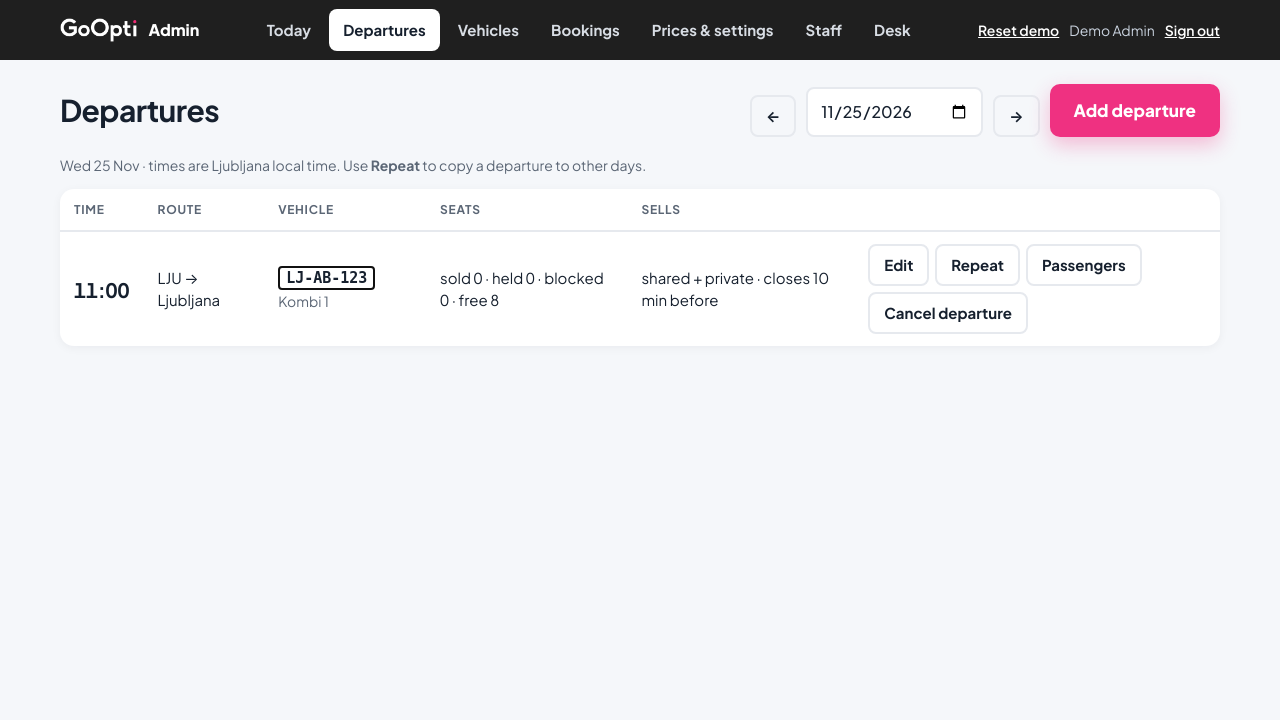
repeat Mon–Fri over two weeks creates 10 departures
Click the button "Repeat": (978, 265) x1=935 y1=244 x2=1020 y2=286
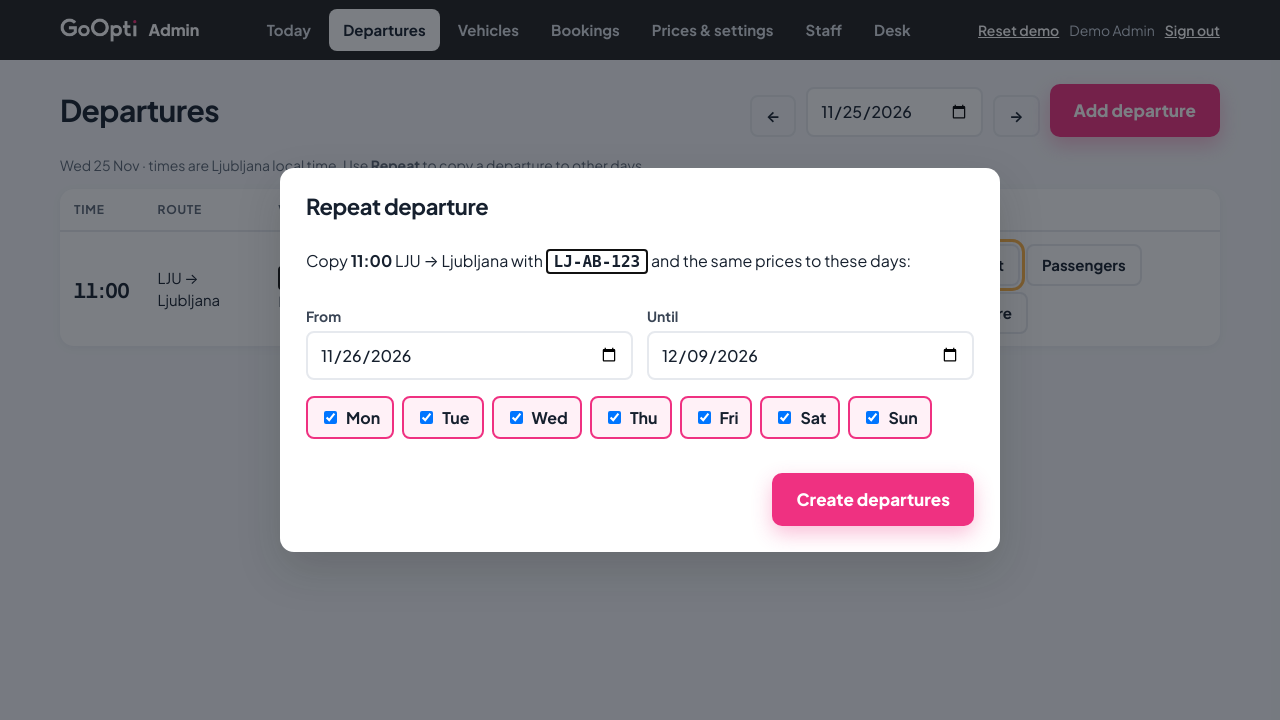
In the date field labelled "From": (470, 356) x1=306 y1=331 x2=633 y2=380, type "2026-11-30"
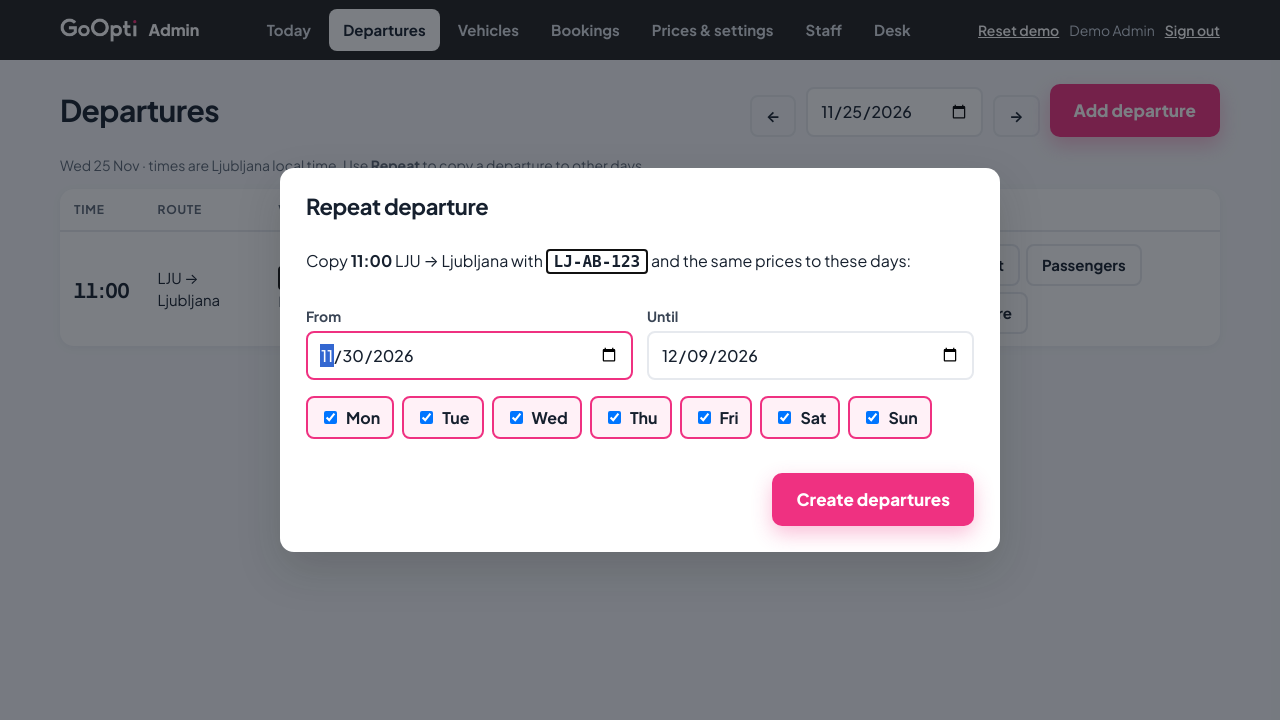
In the date field labelled "Until": (810, 356) x1=647 y1=331 x2=974 y2=380, type "2026-12-13"
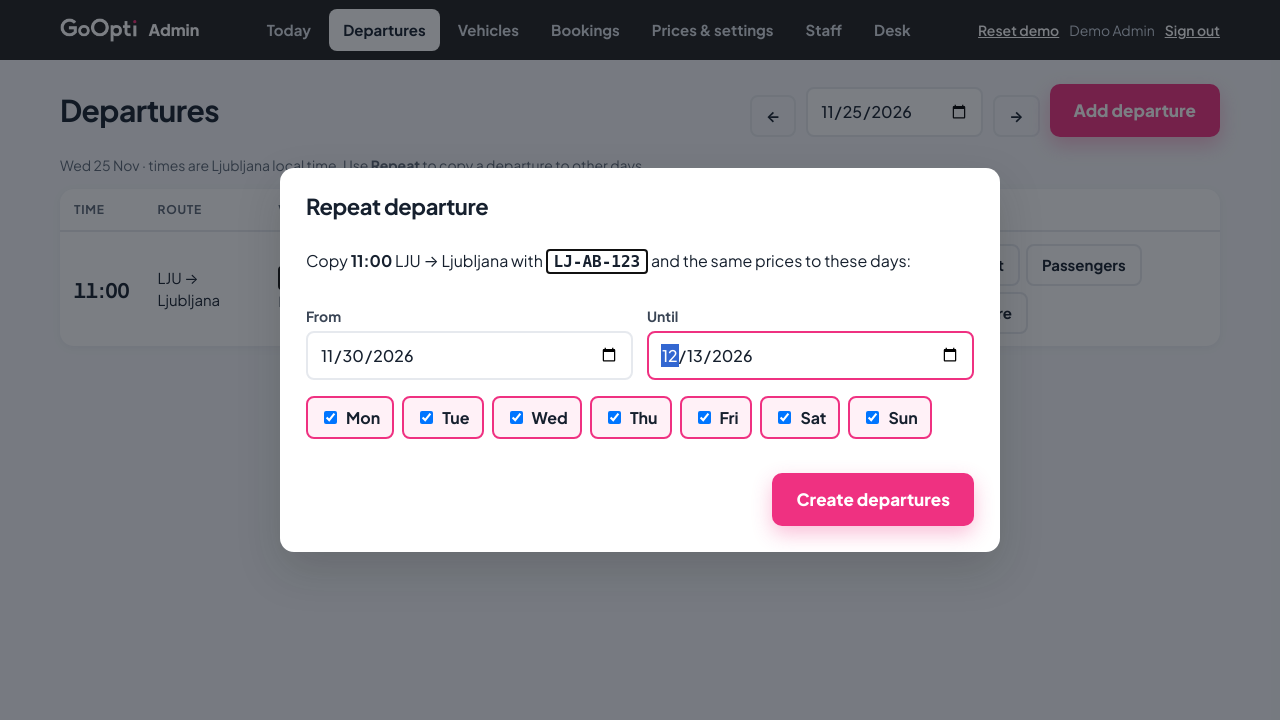
Click the checkbox labelled "Sat": (785, 418) x1=778 y1=411 x2=792 y2=424
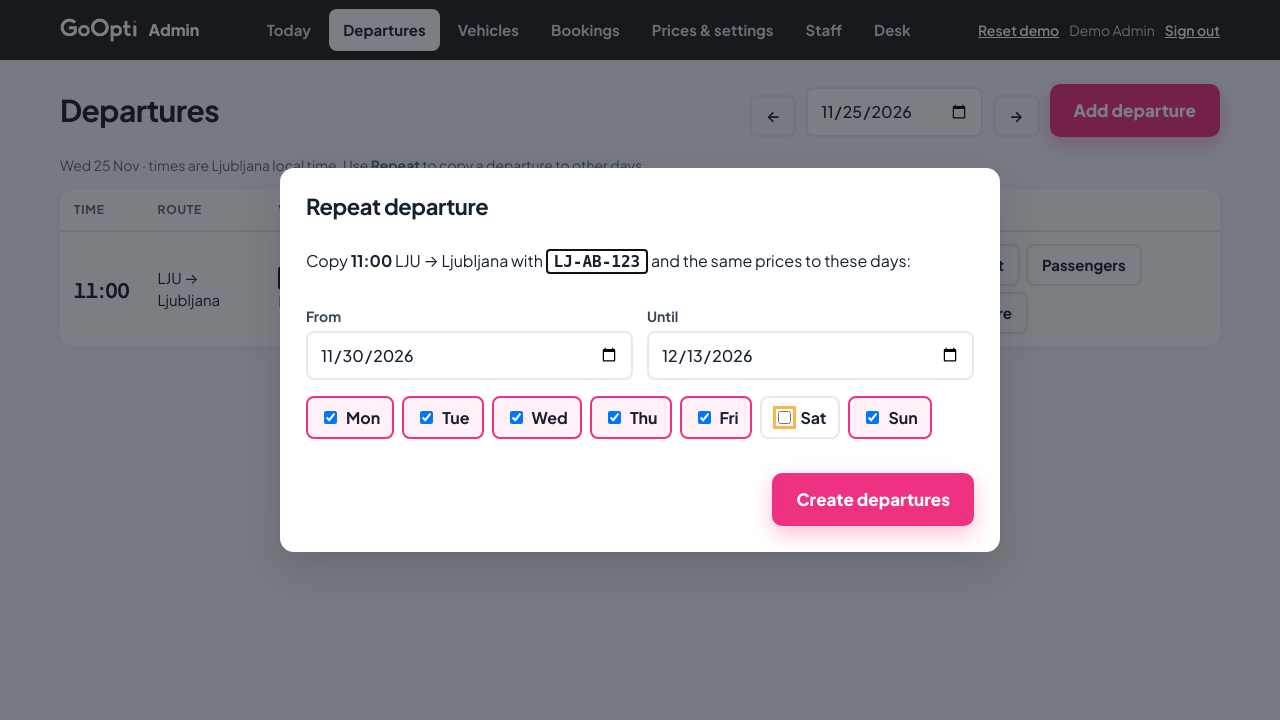
Click the checkbox labelled "Sun": (873, 418) x1=866 y1=411 x2=880 y2=424
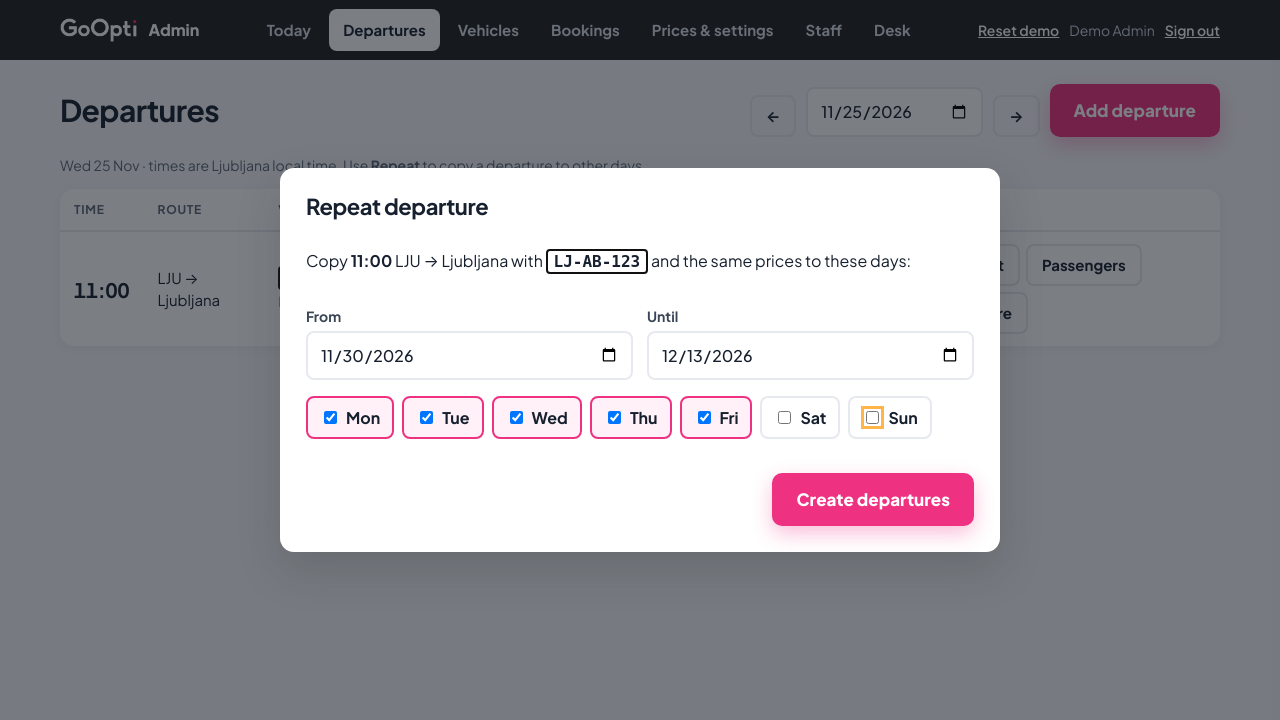
Click the button "Create departures": (873, 500) x1=772 y1=473 x2=974 y2=526
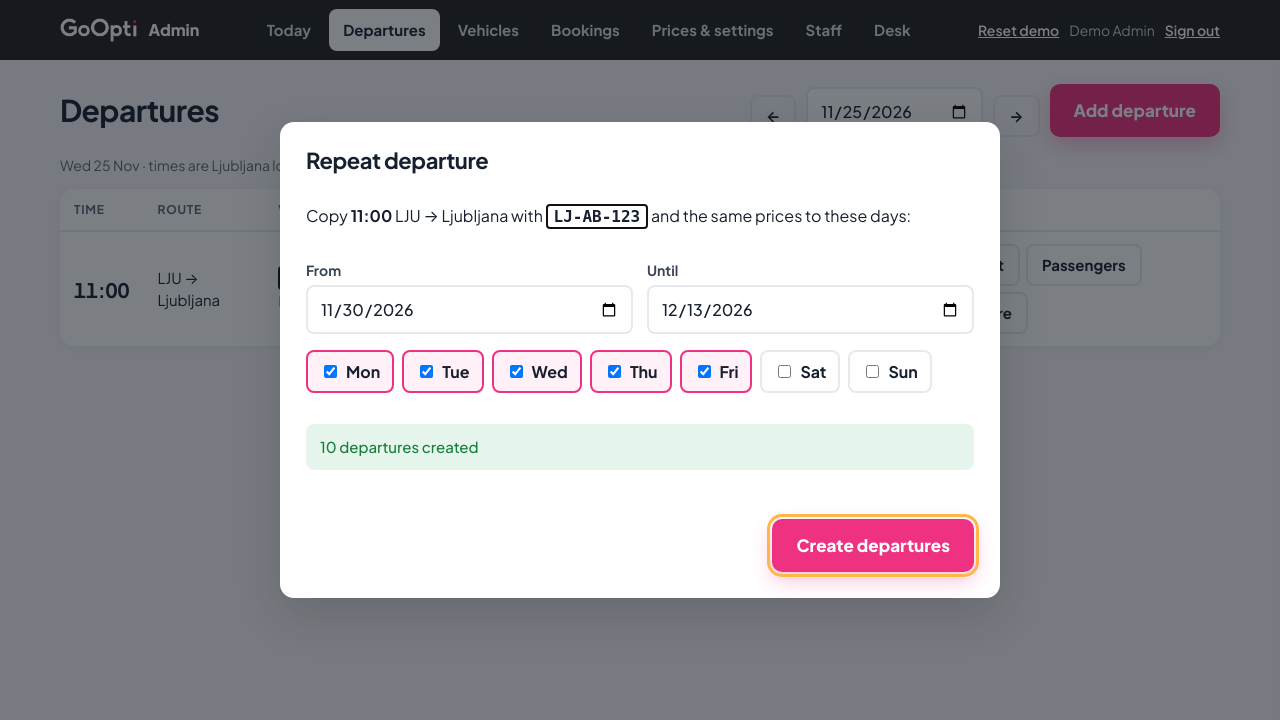
Result: the text "10 departures created" is shown at x1=306 y1=424 x2=974 y2=470
